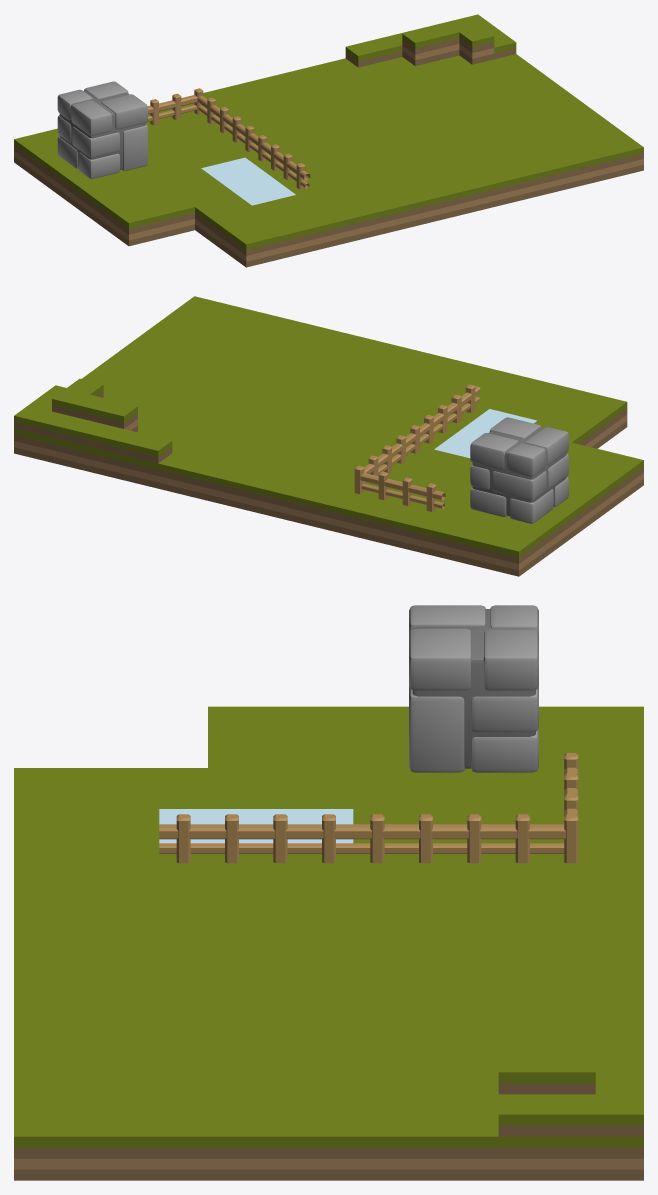
Rendered from house.glb.
3 renders of one model, top to bottom at view 1: azimuth 30°, elevation 25°; view 2: azimuth 150°, elevation 25°; view 3: azimuth 270°, elevation 25°, orthographic. The views are drawn at different scales.
Visible parts, largest first — view 1: Block_GreyBricks, Block_Grass.106, Block_Grass.110, Block_Grass.238, Block_Grass.260, Block_Grass.167, Block_Grass.188, Block_Grass.194, Block_Grass.200, Block_Grass.173, Block_Grass.237, Block_Grass.206 (+29 smaller); view 2: Block_GreyBricks, Block_Grass.245, Block_Grass.010, Block_Grass.164, Block_Grass.030, Block_Grass.158, Block_Grass.213, Block_Grass.040, Block_Grass.124, Block_Grass.134, Block_Grass.020, Block_Grass.114 (+35 smaller); view 3: Block_GreyBricks, Block_Grass.094, Block_Grass.091, Block_Grass.092, Block_Grass.093, Block_Grass.095, Block_Grass.096, Block_Grass.097, Block_Grass.183, Block_Grass.184, Block_Grass.185, Block_Grass.099 (+219 smaller).
Boxes of the visible parts, x1,y1,x2,y2 form: Block_GreyBricks: (57, 81, 147, 178); Block_Grass.106: (459, 27, 494, 64); Block_Grass.110: (402, 28, 437, 65); Block_Grass.238: (233, 229, 268, 267); Block_Grass.260: (116, 208, 150, 246); Block_Grass.167: (300, 213, 334, 251); Block_Grass.188: (587, 143, 621, 180); Block_Grass.194: (543, 154, 577, 191); Block_Grass.200: (499, 165, 533, 202); Block_Grass.173: (344, 203, 378, 240); Block_Grass.237: (256, 224, 290, 261); Block_Grass.206: (455, 176, 489, 213); Block_GreyBricks: (470, 417, 568, 523); Block_Grass.245: (495, 535, 532, 576); Block_Grass.010: (230, 471, 267, 511); Block_Grass.164: (350, 500, 388, 541); Block_Grass.030: (182, 459, 219, 500); Block_Grass.158: (374, 506, 412, 547); Block_Grass.213: (398, 512, 435, 553); Block_Grass.040: (158, 453, 195, 494); Block_Grass.124: (278, 483, 315, 523); Block_Grass.134: (302, 488, 340, 529); Block_Grass.020: (206, 465, 243, 505); Block_Grass.114: (254, 477, 291, 517); Block_GreyBricks: (409, 605, 538, 772); Block_Grass.094: (304, 1116, 353, 1180); Block_Grass.091: (159, 1116, 207, 1180); Block_Grass.092: (208, 1116, 256, 1180); Block_Grass.093: (256, 1116, 304, 1180); Block_Grass.095: (353, 1116, 401, 1180); Block_Grass.096: (401, 1116, 449, 1180); Block_Grass.097: (450, 1116, 498, 1180); Block_Grass.183: (111, 1116, 159, 1180); Block_Grass.184: (62, 1116, 110, 1180); Block_Grass.185: (14, 1116, 62, 1180); Block_Grass.099: (547, 1136, 595, 1180).
Size of the model in its own units: 42 by 7.34 by 26.
Materials: 37 (37 with a texture image).
